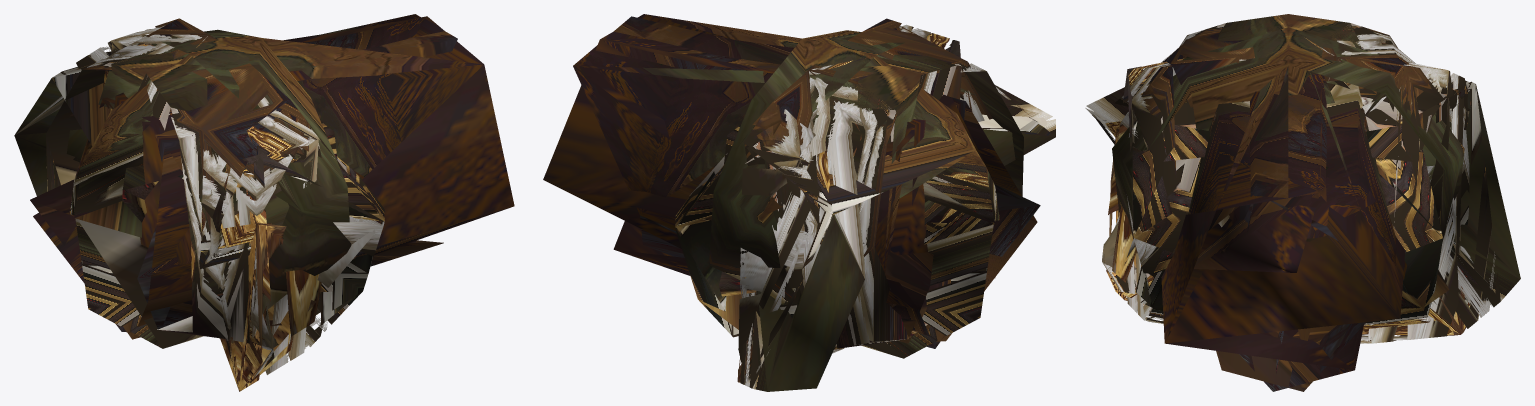
Rendered from a_wt_m_clo_00.obj.
The picture shows the model from 3 angles, left to right: view 1: azimuth 30°, elevation 25°; view 2: azimuth 150°, elevation 25°; view 3: azimuth 270°, elevation 25°; orthographic projection. The views are drawn at different scales.
Bounding box in the file's own units: 14.07 × 9.64 × 13.16.
